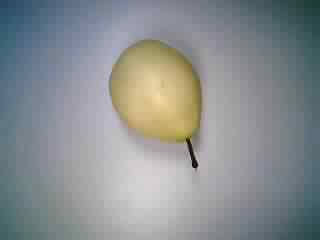pear: (94, 33, 237, 170)
